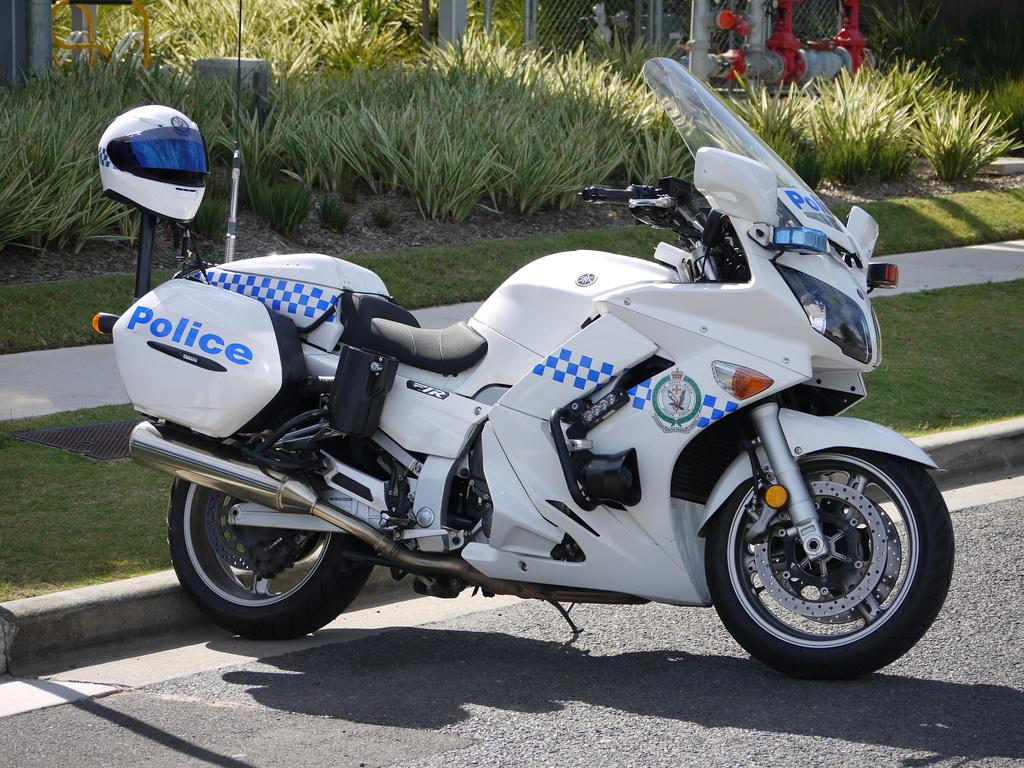helmet: (98, 104, 212, 224)
